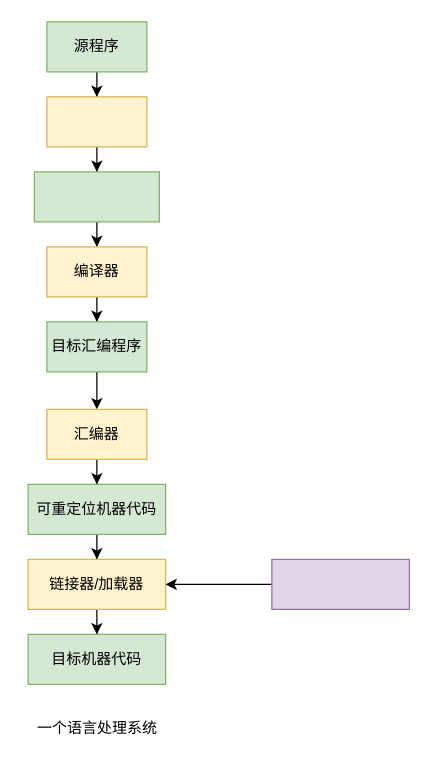
This 431x769 diagram has some shape labels left out. Each missing label, with the centre of its shape:
库文件 可重定位对象文件: the point at 340,583
经过预处理的程序: the point at 96,196
预处理程序: the point at 96,121
